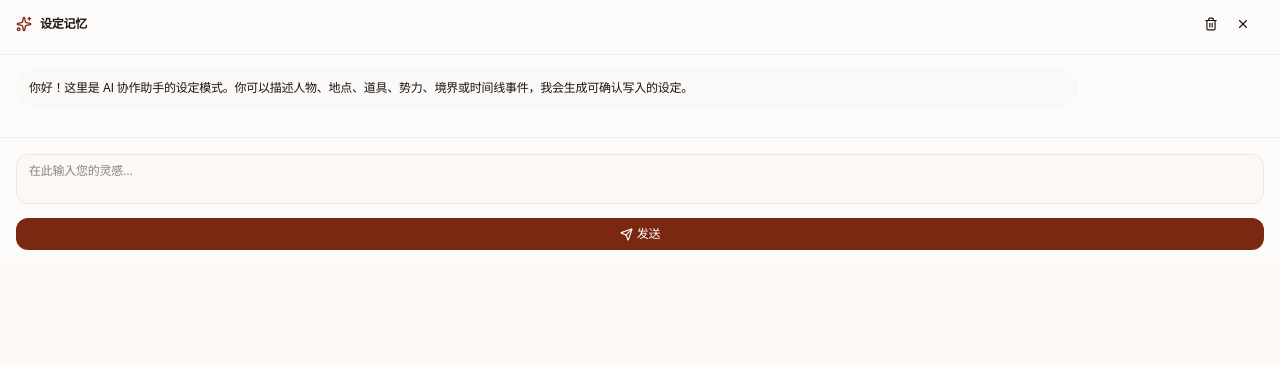
Test case: WorldBibleAssistant continuation batch sync › 自动推断不会让待审核资料包进入同步流程
The image size is (1280, 365).
Type "处理资料包《待审核资料包》中的设定" into the text box named "输入设定灵感" at (640, 179), box [16,154,1264,204]
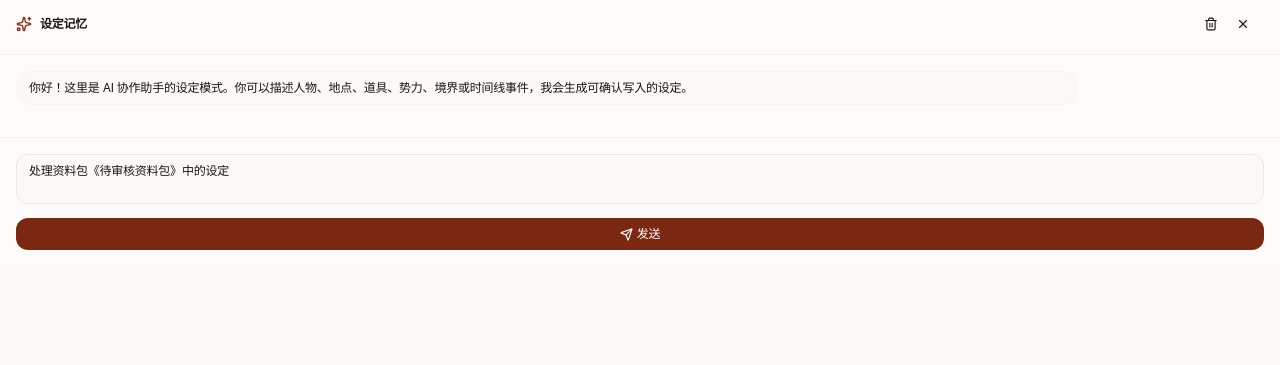
Click the button with aria-label "发送设定灵感" at (640, 234), box [16,218,1264,250]
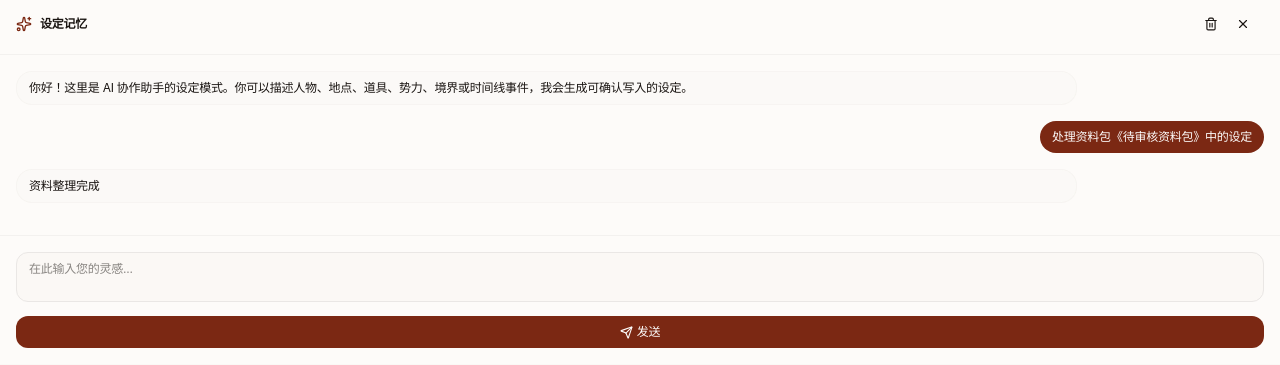
Expected: the text "资料整理完成" is shown, [29,178,100,193]
